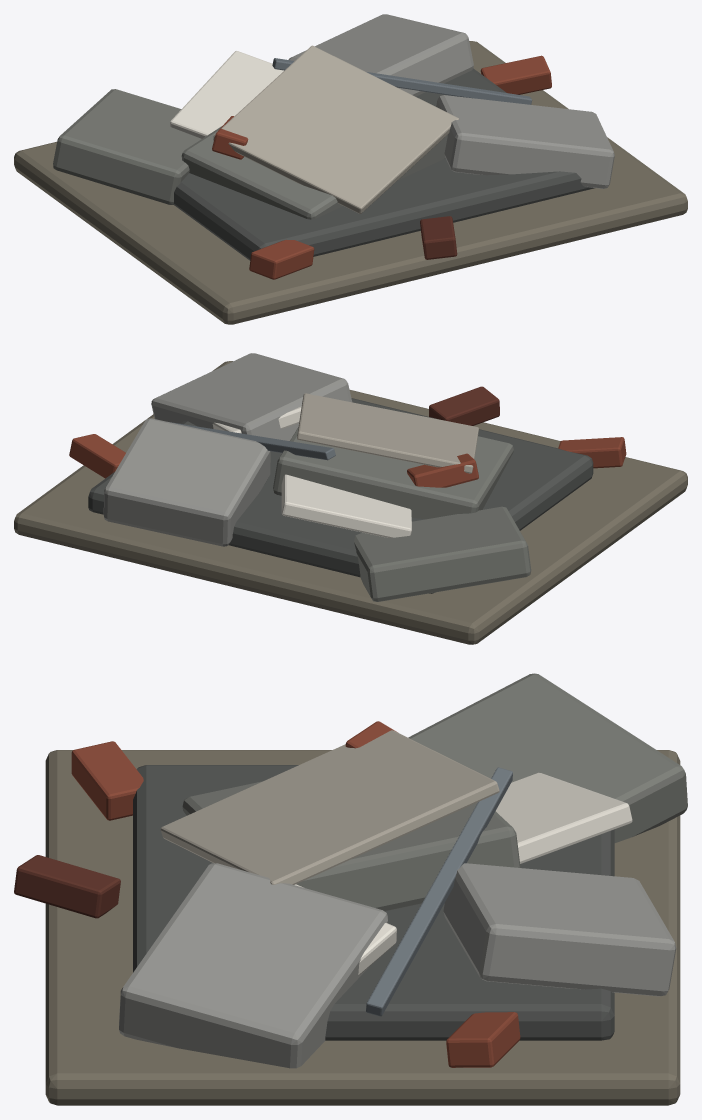
The model's file is lobby_rubble.glb.
The picture shows the model from 3 angles, top to bottom: view 1: azimuth 30°, elevation 25°; view 2: azimuth 150°, elevation 25°; view 3: azimuth 270°, elevation 25°; orthographic projection. The views are drawn at different scales.
Parts seen in each view (by area): view 1: lobby_rubble; view 2: lobby_rubble; view 3: lobby_rubble.
Boxes of the visible parts, x1,y1,x2,y2 form: lobby_rubble: (14, 14, 687, 324); lobby_rubble: (14, 353, 687, 644); lobby_rubble: (14, 673, 687, 1105).
Size of what is drawn, in the model's own units: 1.85 by 0.4202 by 1.54.
Materials: 2 (2 with a texture image).
